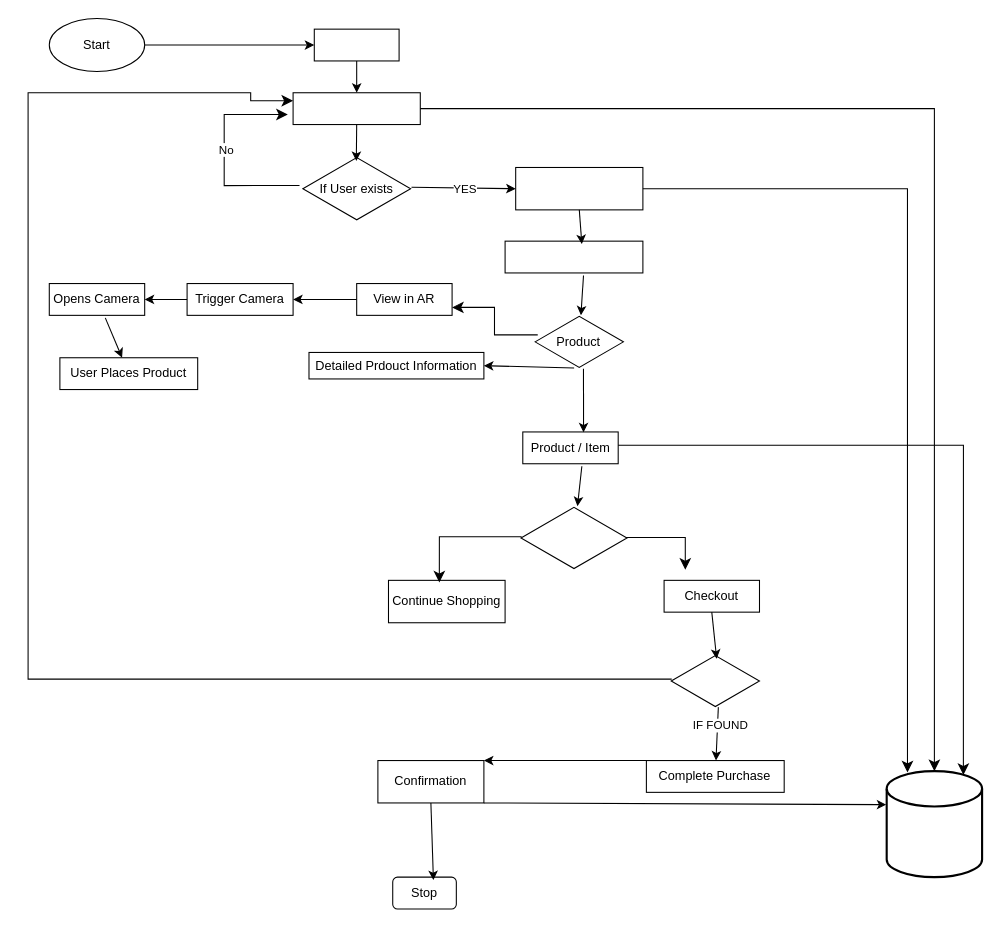
Some shapes in this 1002 by 927 pixel diagram are drawn without their labels. Each missing label, with the centre of its shape:
"Add to cart" goes at (573,537).
"Database 1" goes at (934,824).
"Furniture Categories" goes at (579,188).
"Home Page" goes at (356,44).
"Registration & Login" goes at (356,108).
"User" goes at (714,680).
"User Selects Category" goes at (573,256).
